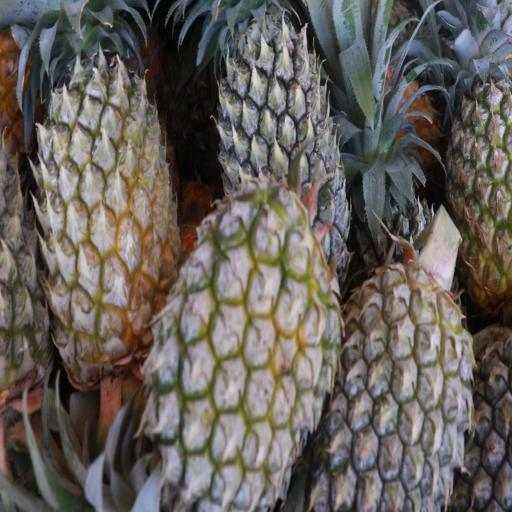------------------------------: (154, 188, 332, 510), (38, 0, 173, 367)
